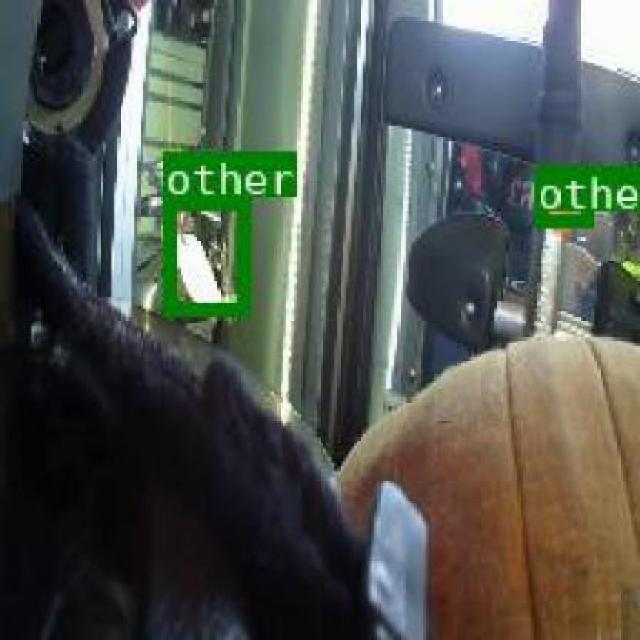other: (160, 196, 248, 315), (530, 164, 590, 227)
